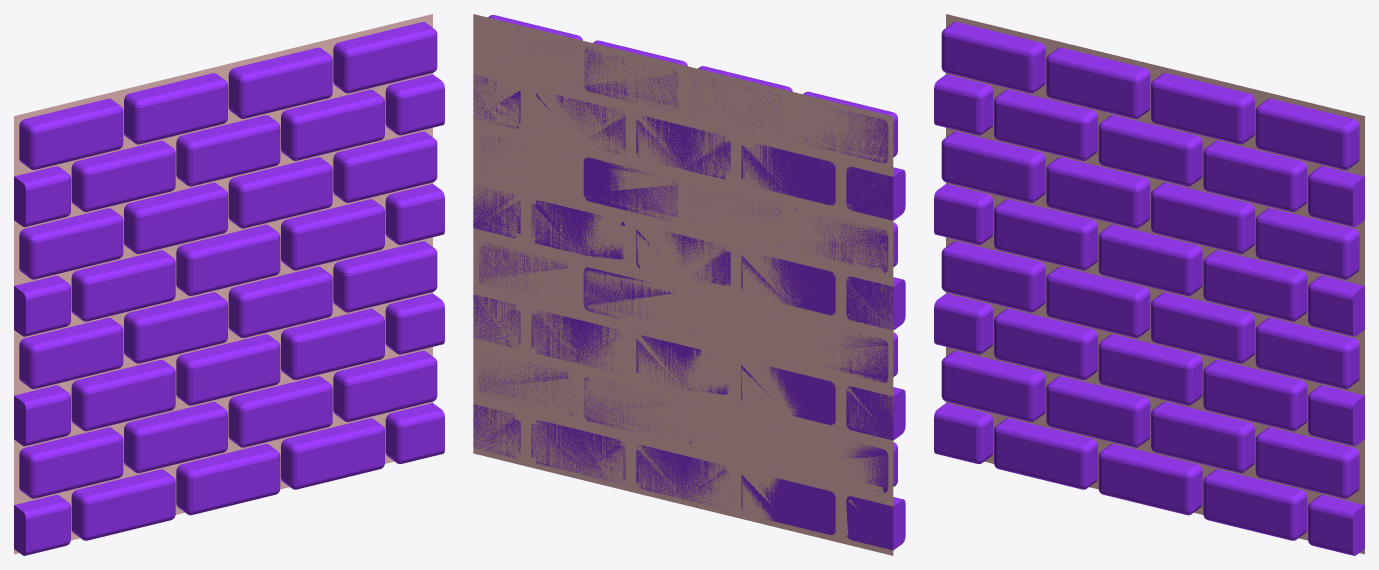
File: wall_2_low.dae
The picture shows the model from 3 angles, left to right: view 1: azimuth 30°, elevation 25°; view 2: azimuth 150°, elevation 25°; view 3: azimuth 330°, elevation 25°; orthographic projection.
Parts seen in each view (by area): view 1: brick_half_1 (×32), group_3 (×16), st2 (×16), group_2 (×7); view 2: group_2 (×16), group_1 (×32), brick_half_1 (×30), group_3 (×10); view 3: brick_half_1 (×32), group_3 (×16), st2 (×16), group_2 (×7).
Part boxes in pixels (bbox=[...]): brick_half_1 (×32): bbox=[14, 74, 444, 555]; group_3 (×16): bbox=[19, 22, 434, 494]; st2 (×16): bbox=[34, 28, 434, 461]; group_2 (×7): bbox=[14, 14, 432, 499]; group_2 (×16): bbox=[473, 14, 893, 500]; group_1 (×32): bbox=[473, 69, 893, 555]; brick_half_1 (×30): bbox=[473, 75, 905, 550]; group_3 (×10): bbox=[478, 41, 897, 491]; brick_half_1 (×32): bbox=[934, 74, 1364, 555]; group_3 (×16): bbox=[944, 22, 1359, 494]; st2 (×16): bbox=[944, 28, 1344, 461]; group_2 (×7): bbox=[946, 14, 1364, 499].
Size of the model in its own units: 78.74 by 3.94 by 78.74.
